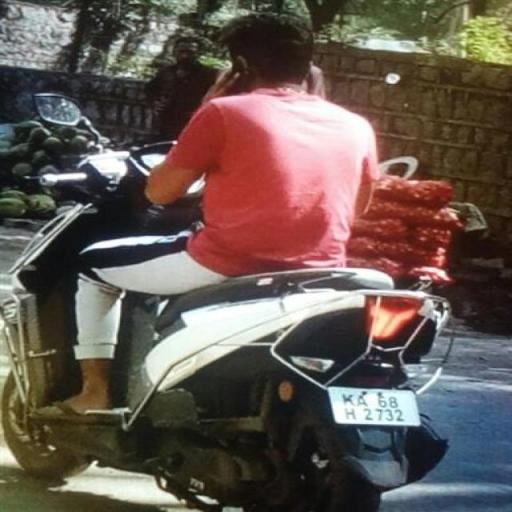numberplate: (332, 388, 424, 428)
using mobile: (229, 12, 308, 71)
